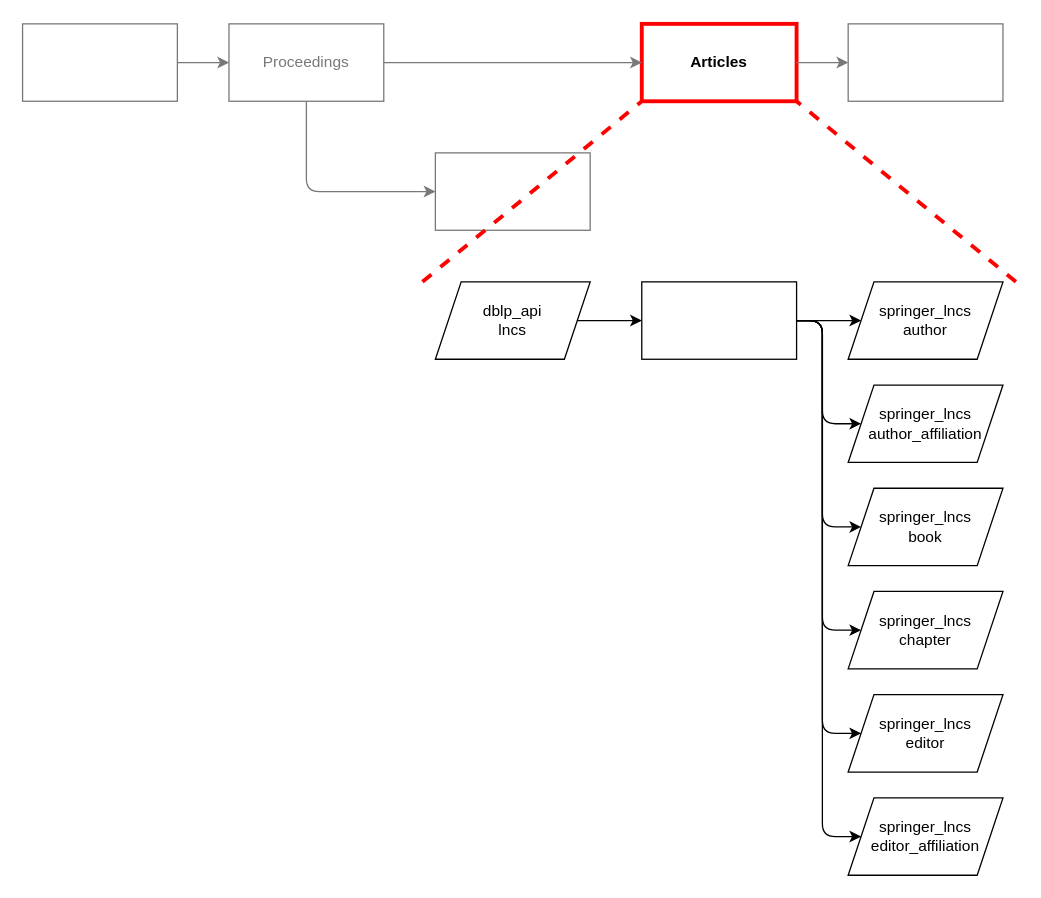
Some shapes in this 1041 by 898 pixel diagram are drawn without their labels. The centre of each missing label's shape, as x and y in pixels:
Citations: point (925, 62)
lncs scraper lncs_scraper.py: point (718, 320)
PC Members: point (512, 191)
Top conferences: point (99, 62)
